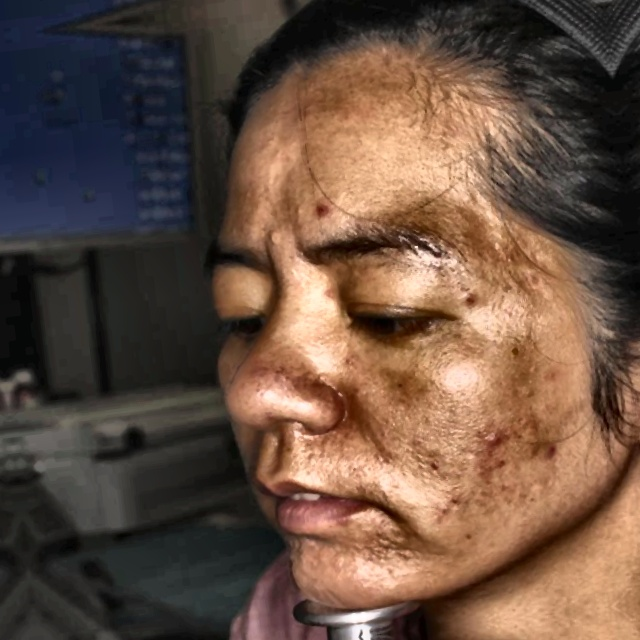comedone: (482, 423, 511, 457), (456, 286, 490, 312), (299, 201, 330, 221)
